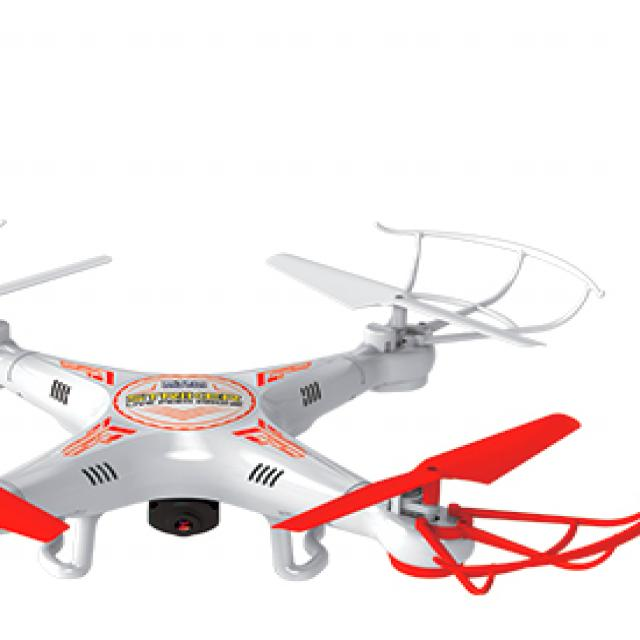drone: (0, 199, 640, 595)
